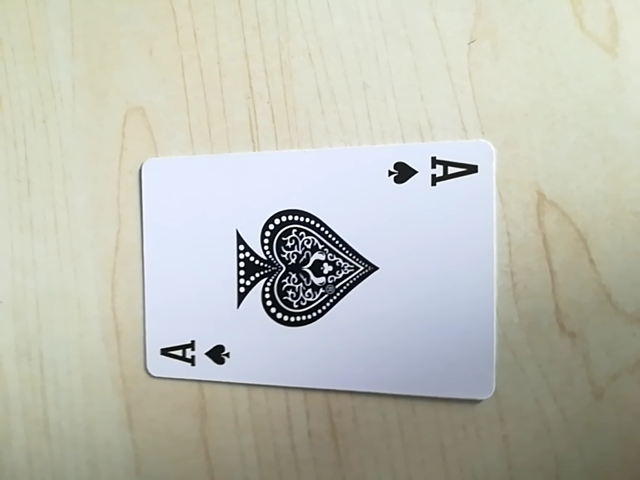ht a: (380, 150, 479, 199), (153, 332, 236, 375)
